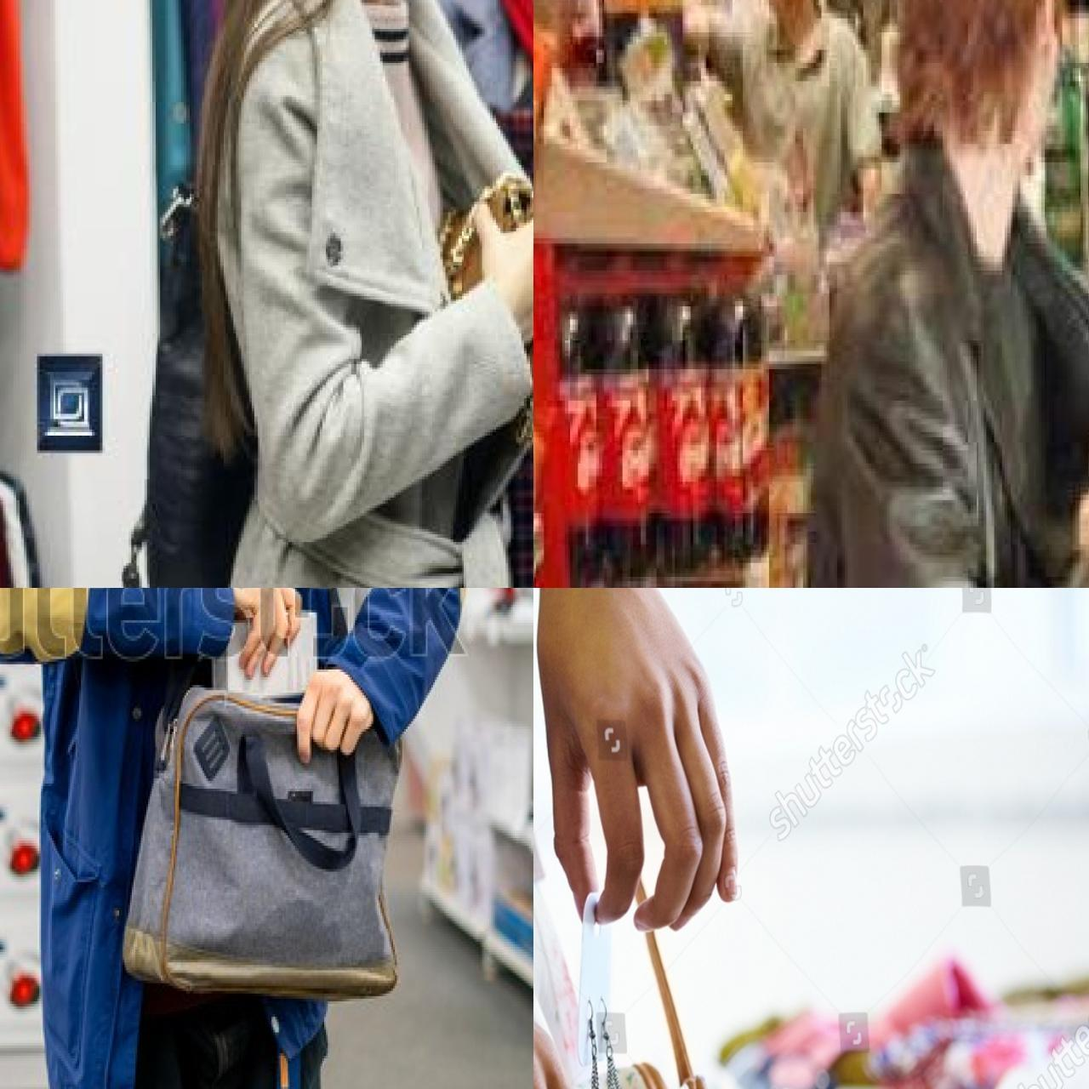shoplifting: (0, 583, 533, 1089), (3, 77, 535, 580)
